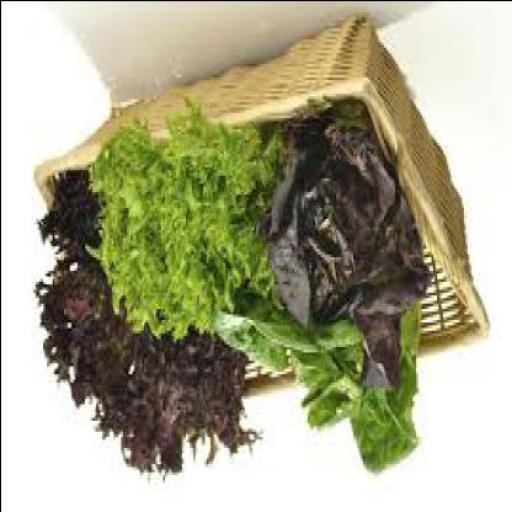biodegradable: (30, 174, 259, 484), (80, 101, 282, 335), (261, 125, 432, 392), (208, 297, 415, 476), (299, 98, 366, 144)
